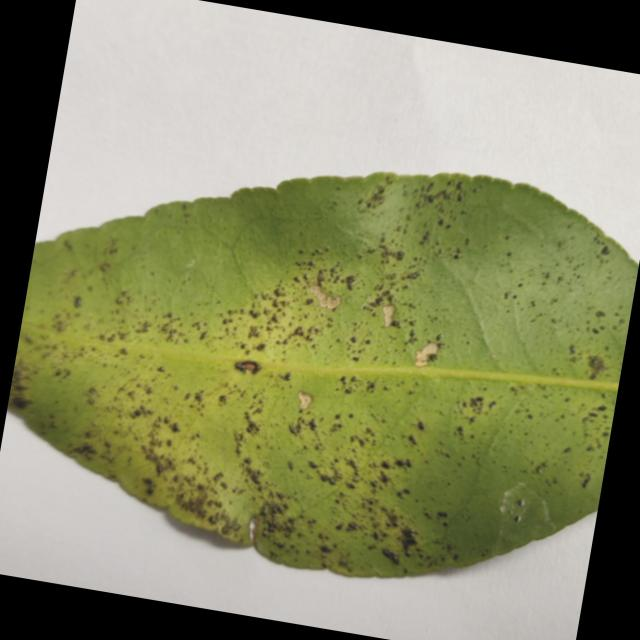melanose: (8, 173, 638, 577)
